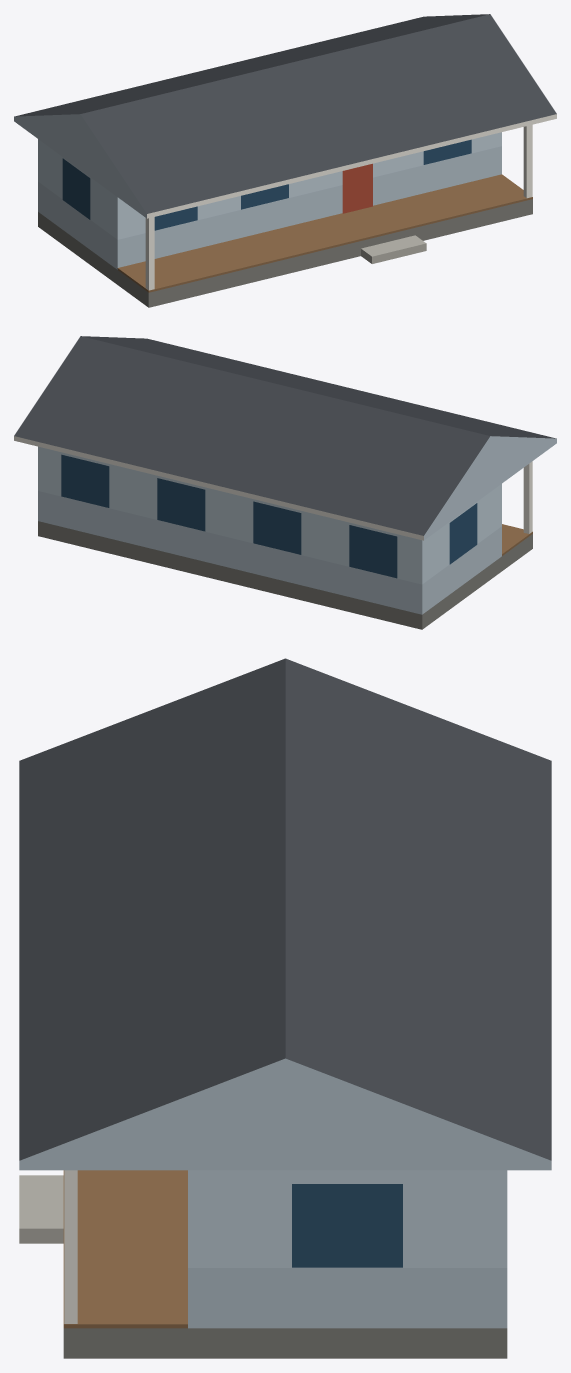
File: house_12x6_lod1.glb
3 renders of one model, top to bottom at view 1: azimuth 30°, elevation 25°; view 2: azimuth 150°, elevation 25°; view 3: azimuth 270°, elevation 25°, orthographic. The views are drawn at different scales.
Parts seen in each view (by area): view 1: house; view 2: house; view 3: house.
Part boxes in pixels (left/top/right/bottom): house: left=14, top=14, right=556, bottom=307; house: left=14, top=336, right=556, bottom=629; house: left=19, top=658, right=551, bottom=1358.
Size of the model in its own units: 12.8 by 4.66 by 7.2.
